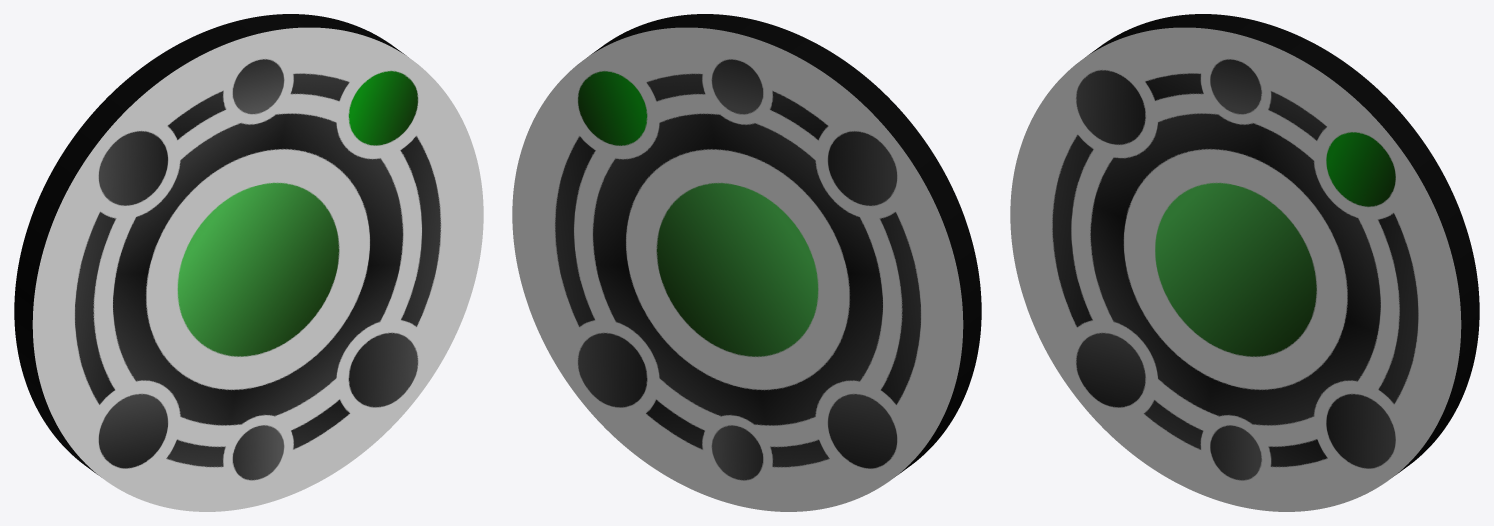
Rendered from LobbyBL.glb.
3 views of the same model, side by side, from view 1: azimuth 30°, elevation 25°; view 2: azimuth 150°, elevation 25°; view 3: azimuth 330°, elevation 25° (orthographic).
Parts seen in each view (by area): view 1: Cylinder; view 2: Cylinder; view 3: Cylinder.
Boxes of the visible parts, x1,y1,x2,y2 form: Cylinder: [14, 14, 483, 511]; Cylinder: [512, 14, 981, 511]; Cylinder: [1010, 14, 1479, 511].
Size of the model in its own units: 1.99 by 1.99 by 0.1408.
Materials: 2 (1 with a texture image).
